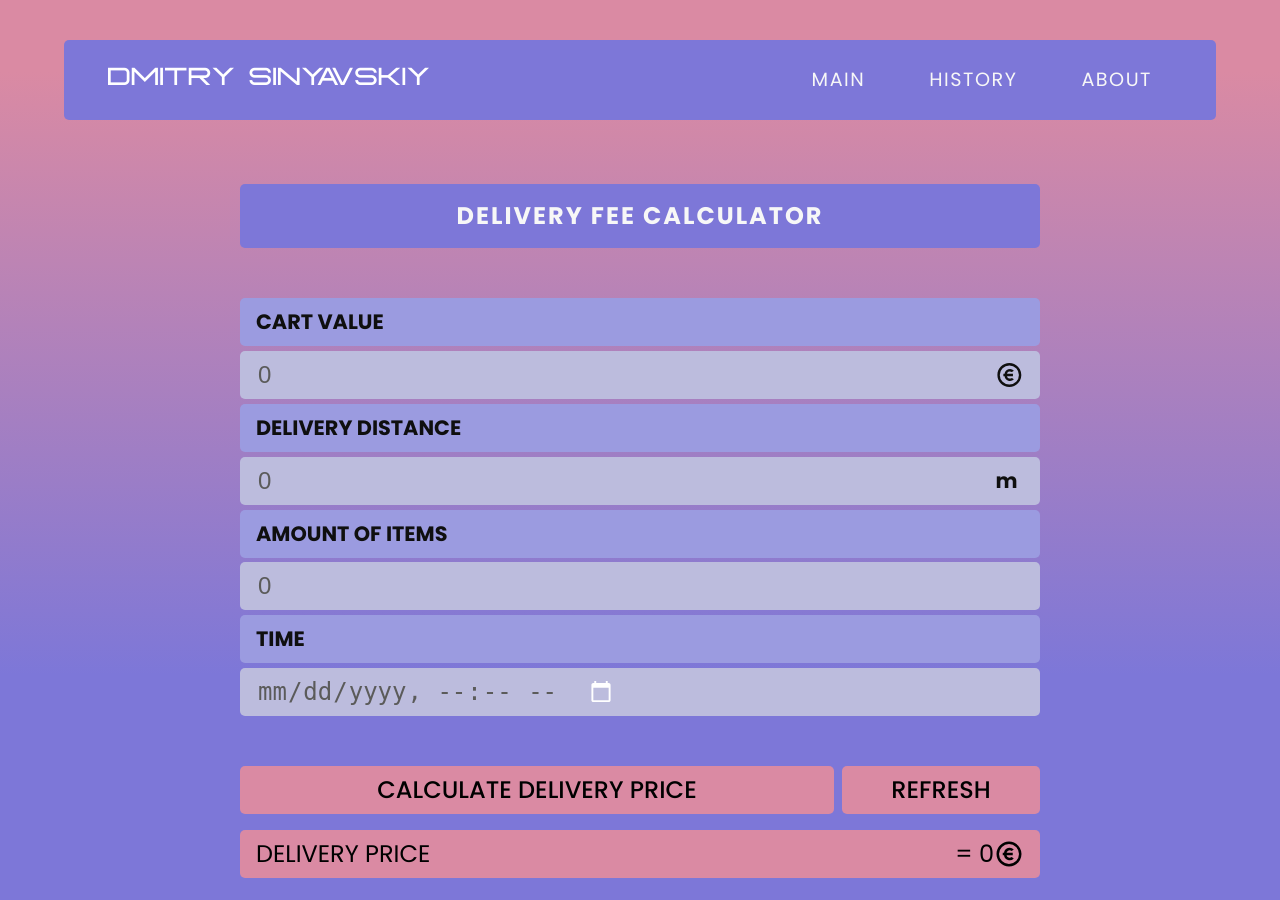
Test case: MainPage component › calculates delivery fee correctly
This screenshot has width=1280, height=900.
Replace the text in the field with test id "cartValue" with "10". click: (626, 375)
box: [256,360,995,390]
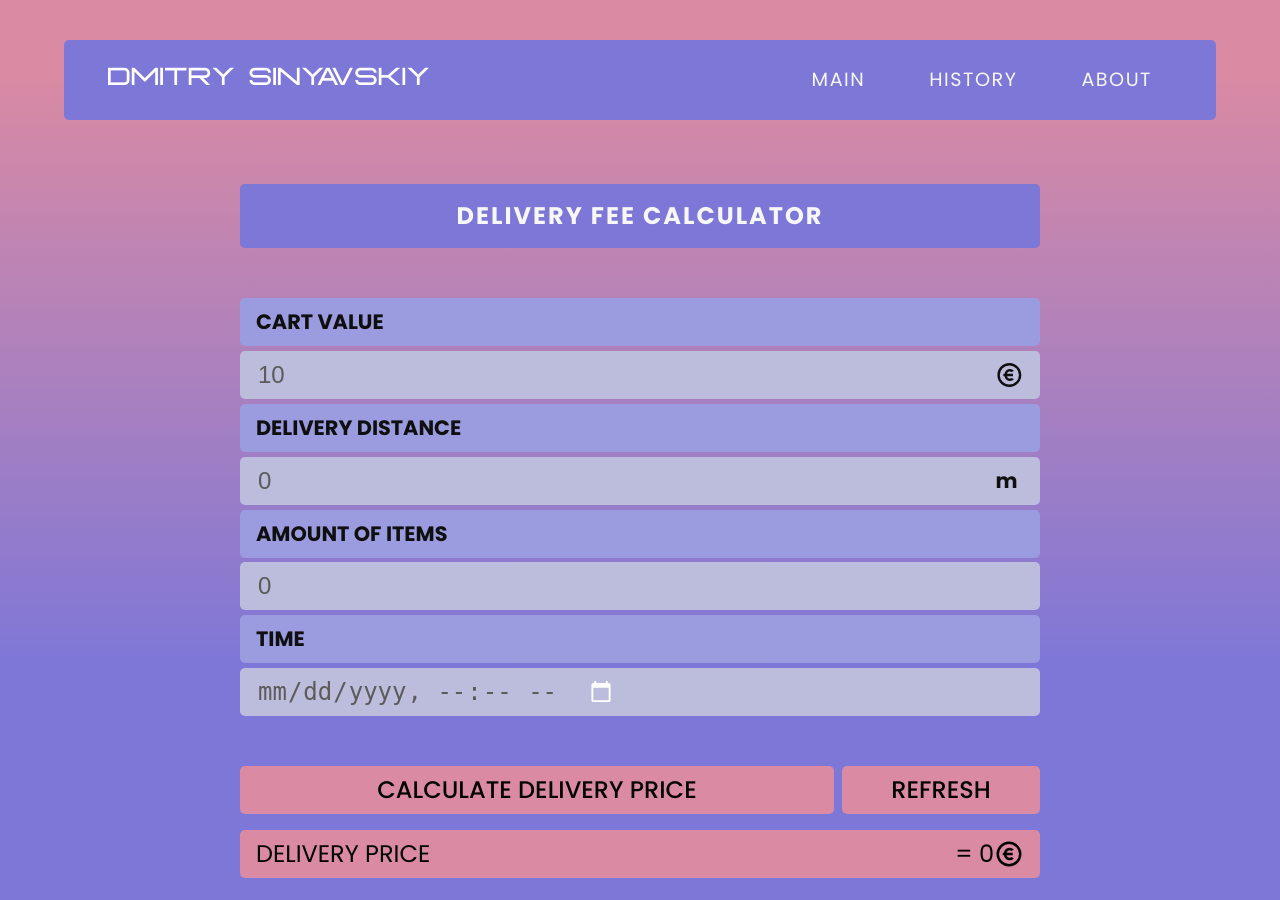
Replace the text in the field with test id "distance" with "10". click: (626, 481)
box: [256,466,996,496]
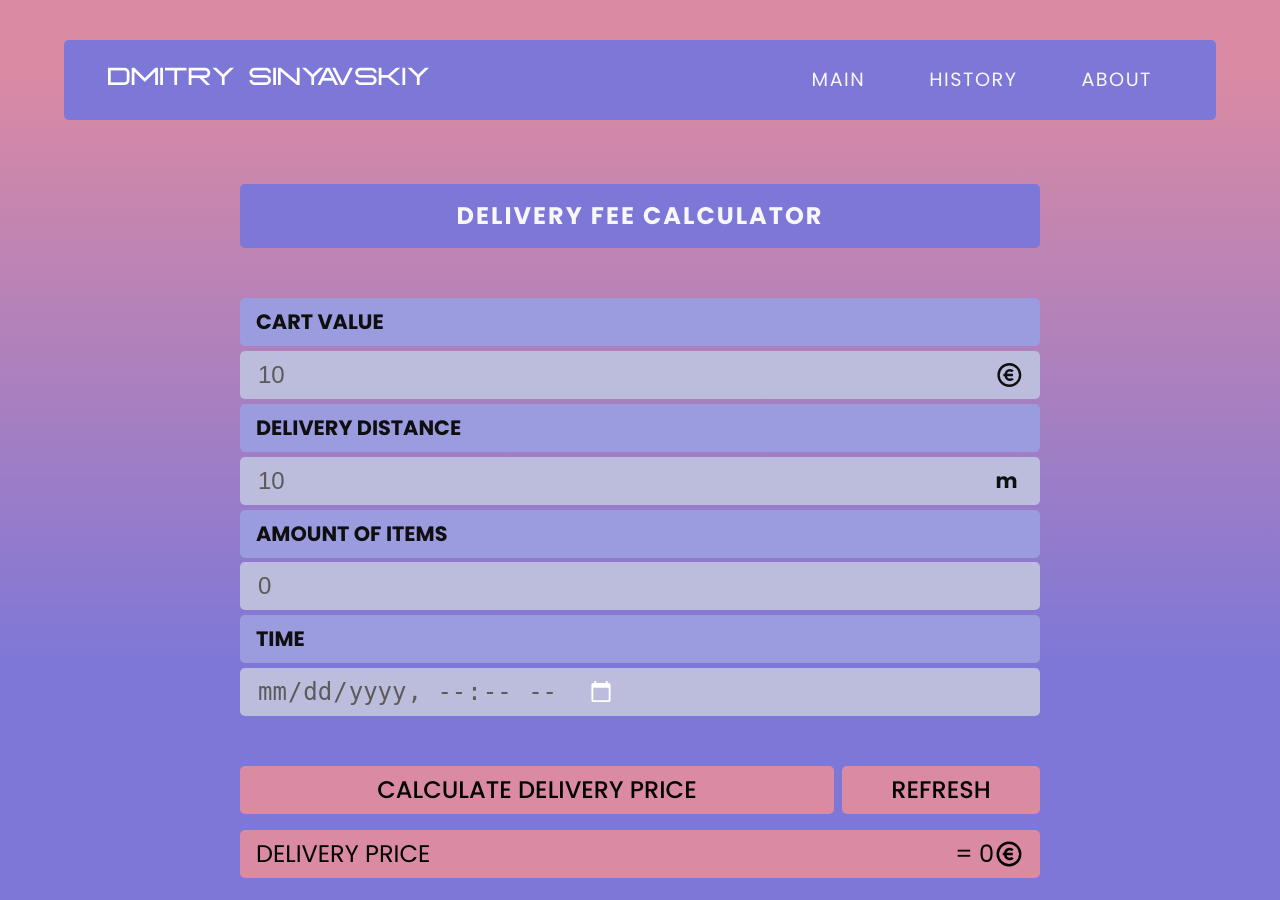
Replace the text in the field with test id "itemsAmount" with "5". click: (640, 586)
box: [256,571,1024,601]
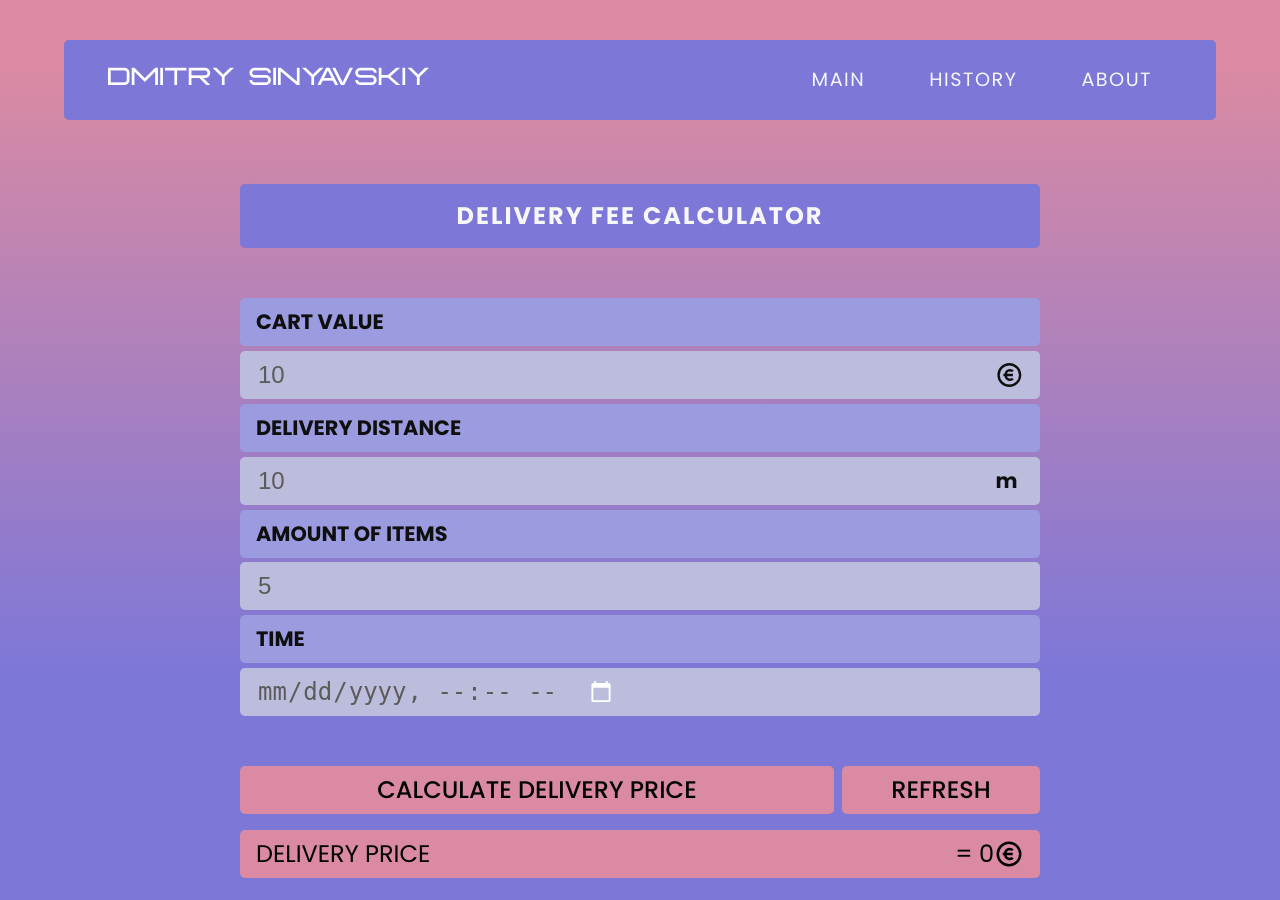
Type "2023-01-01T10:00" into the field with test id "date". click: (436, 692)
box: [256,677,615,707]
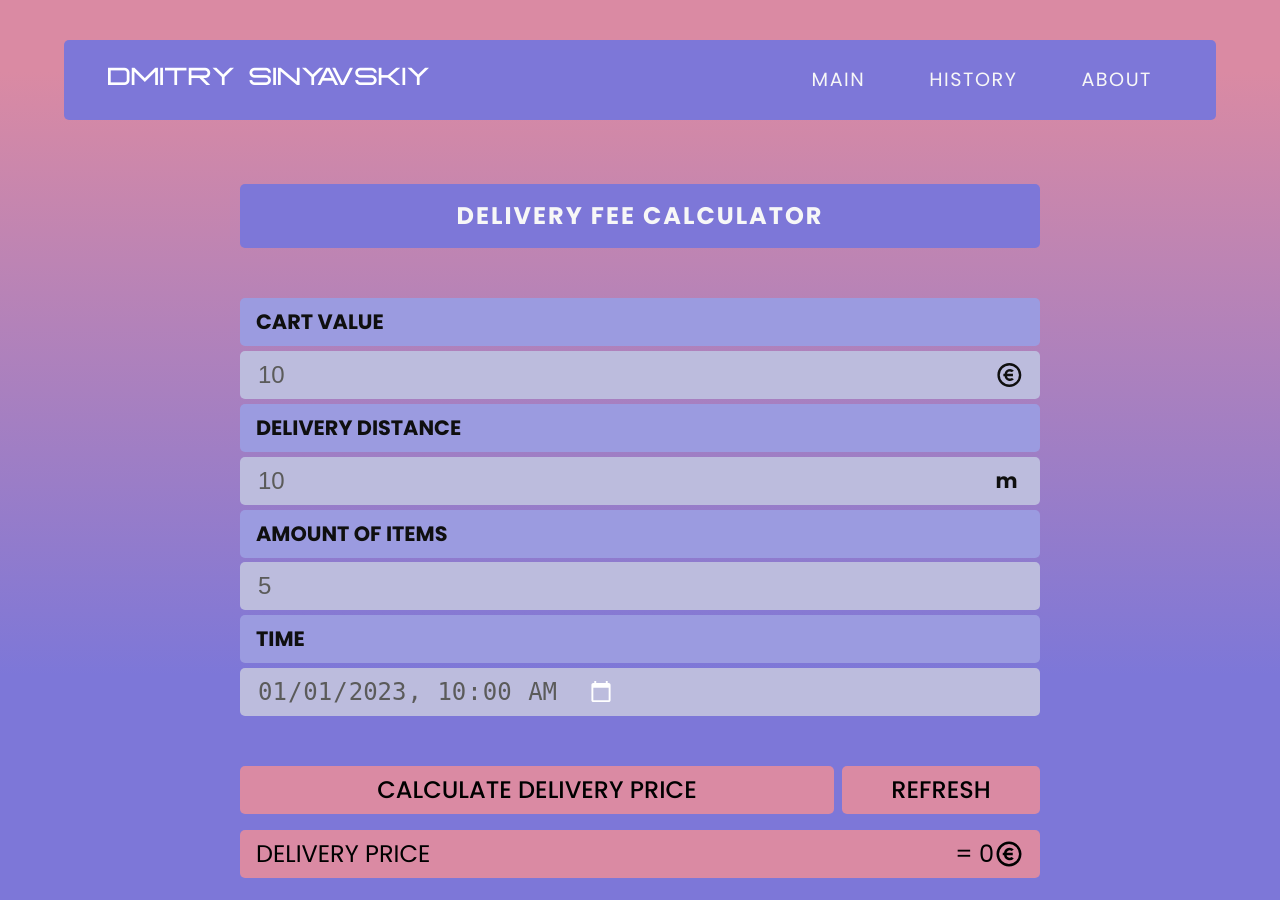
Click the text "Calculate delivery price". click: click(537, 790)
box: [377,778,697,802]
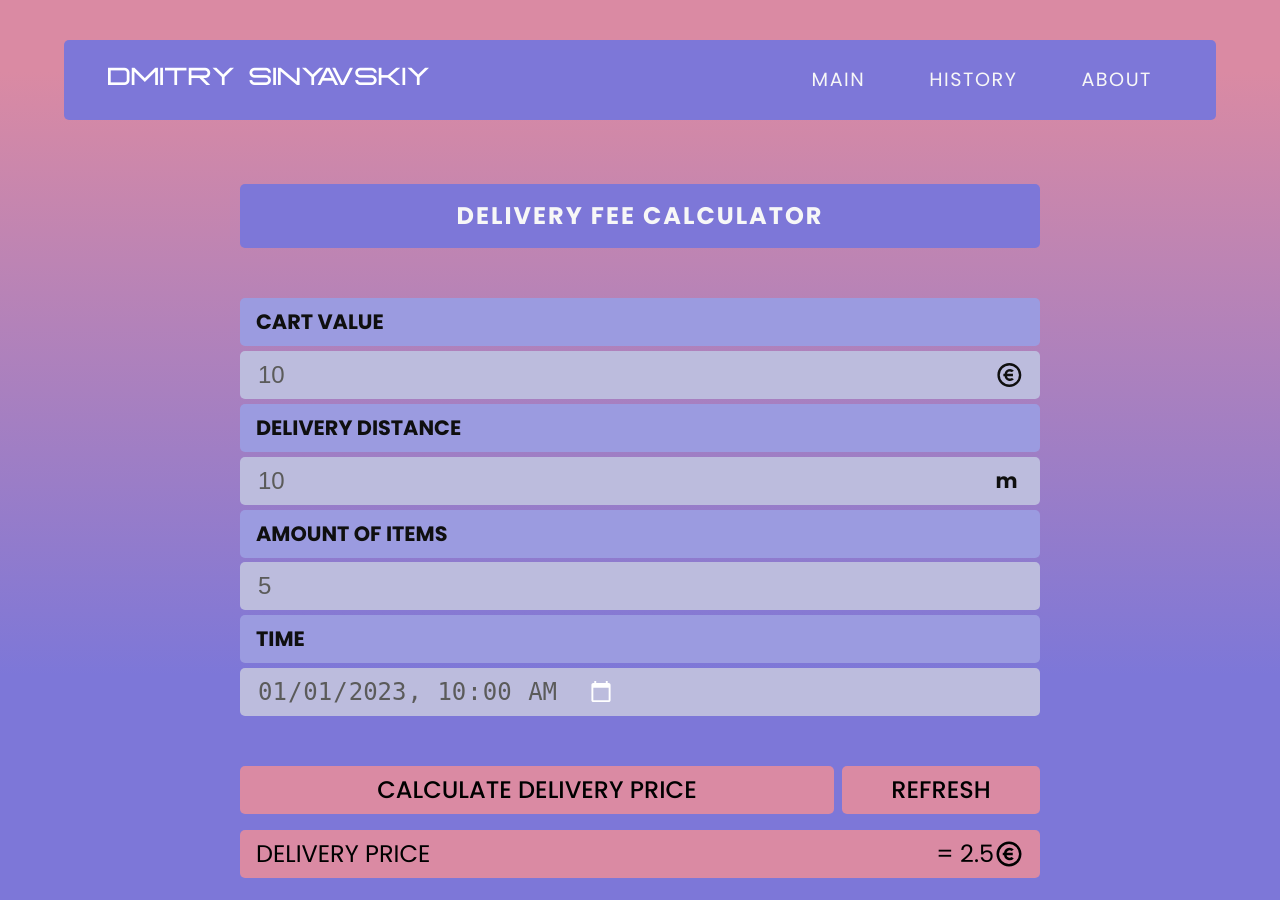
Check: the text with test id "result" reads "= 2.5", box [936,842,994,866]
